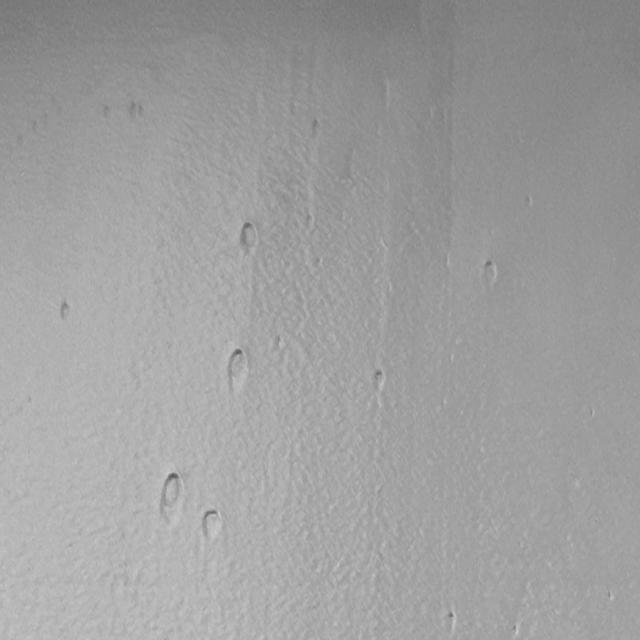pin holes: (157, 467, 189, 526), (223, 346, 250, 391), (199, 508, 225, 541), (238, 221, 261, 255), (480, 258, 500, 288), (440, 609, 461, 636), (125, 102, 146, 125), (370, 368, 388, 394), (57, 298, 75, 323), (310, 119, 325, 141), (100, 104, 114, 126), (521, 193, 535, 212), (604, 588, 619, 604), (307, 210, 315, 234), (275, 334, 286, 351)
